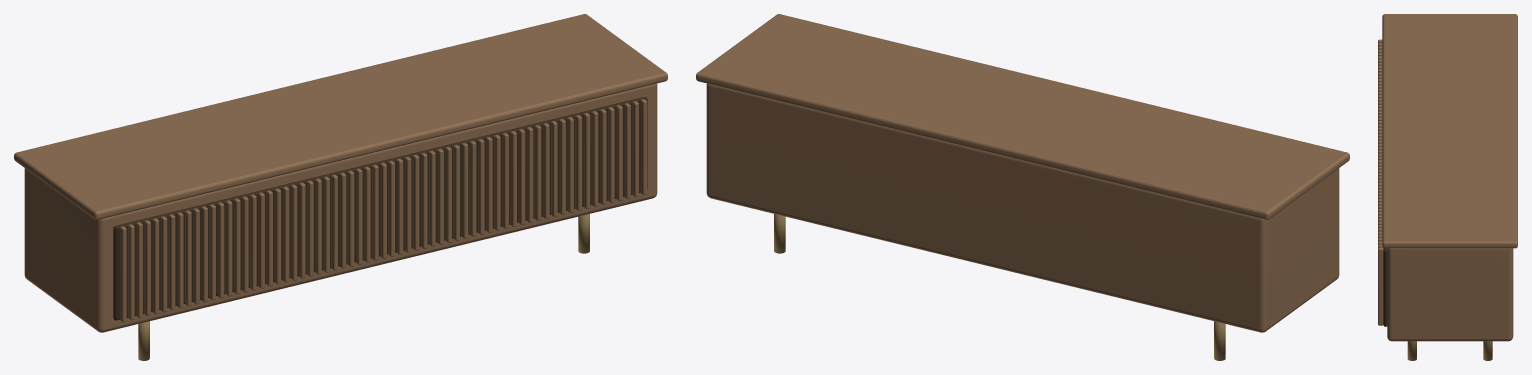
Rendered from oak-console.glb.
3 views of the same model, side by side, from view 1: azimuth 30°, elevation 25°; view 2: azimuth 150°, elevation 25°; view 3: azimuth 270°, elevation 25° (orthographic). The views are drawn at different scales.
Parts seen in each view (by area): view 1: Cabinet carcass; view 2: Cabinet carcass; view 3: Cabinet carcass.
Boxes of the visible parts, x1,y1,x2,y2 form: Cabinet carcass: [14, 14, 667, 360]; Cabinet carcass: [696, 14, 1349, 360]; Cabinet carcass: [1378, 14, 1517, 360].
Size of the model in its own units: 1.72 by 0.5025 by 0.444.
